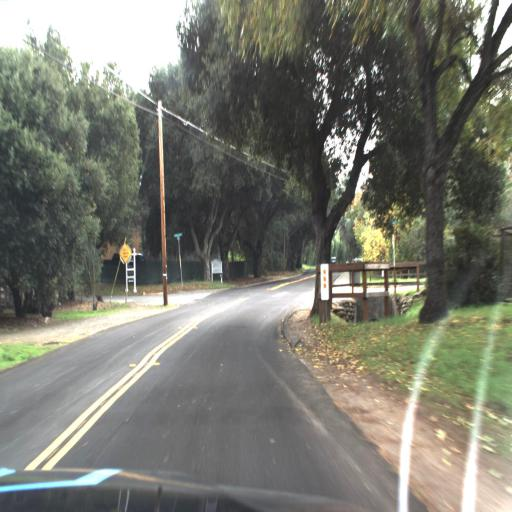car: (327, 247, 343, 271), (329, 253, 339, 269)
